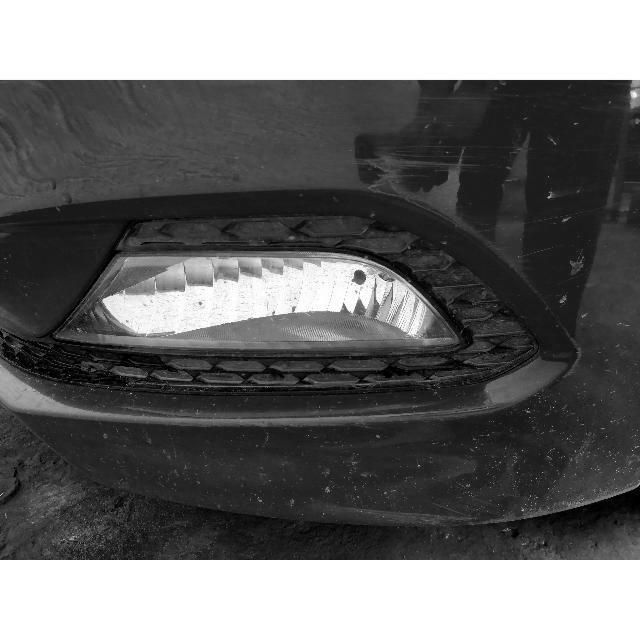front-bumper-dent: (1, 139, 640, 511)
